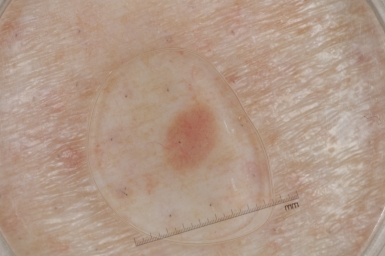seborrheic keratosis: (157, 100, 227, 175)
